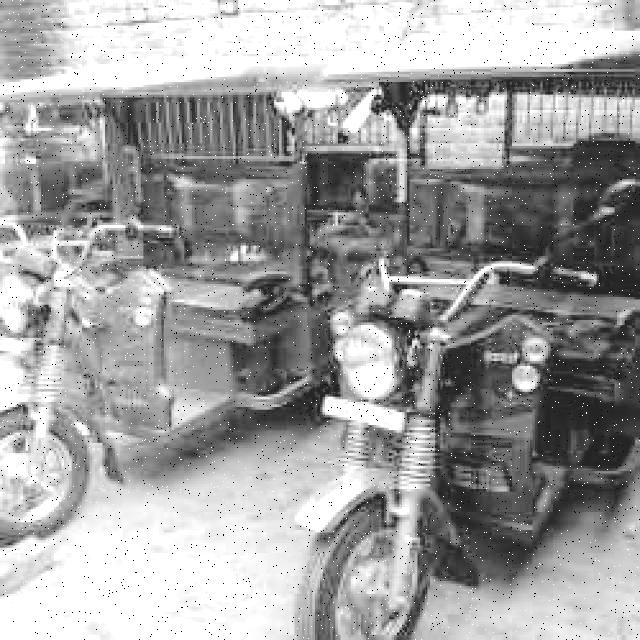Toto: (291, 30, 640, 640), (0, 43, 323, 555)
